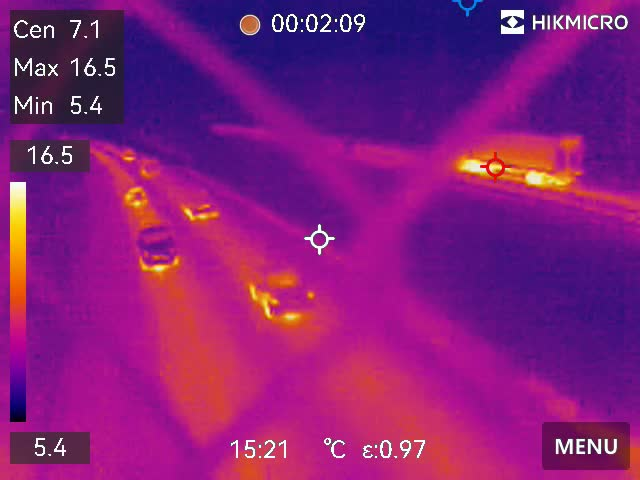heavyTruck: (444, 127, 586, 190)
